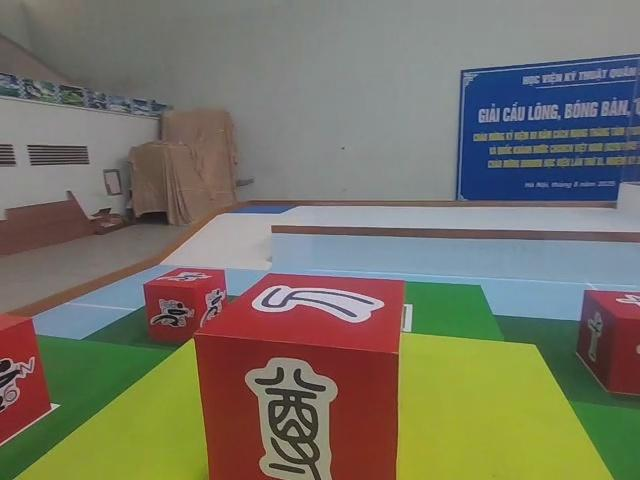R1: (0, 312, 54, 446), (141, 264, 230, 344)
R2 Fake: (197, 277, 409, 480)
R2 Real: (577, 286, 639, 397)
